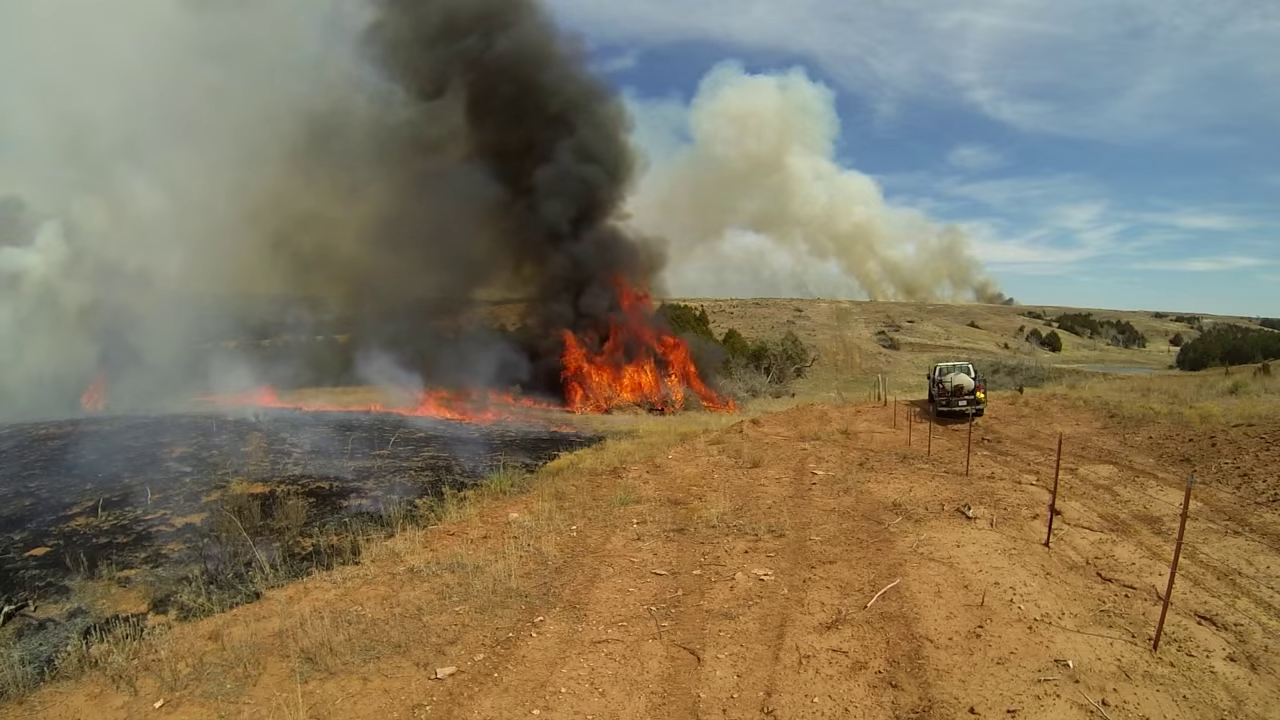forest_fire: (194, 277, 734, 421), (81, 373, 105, 409)
